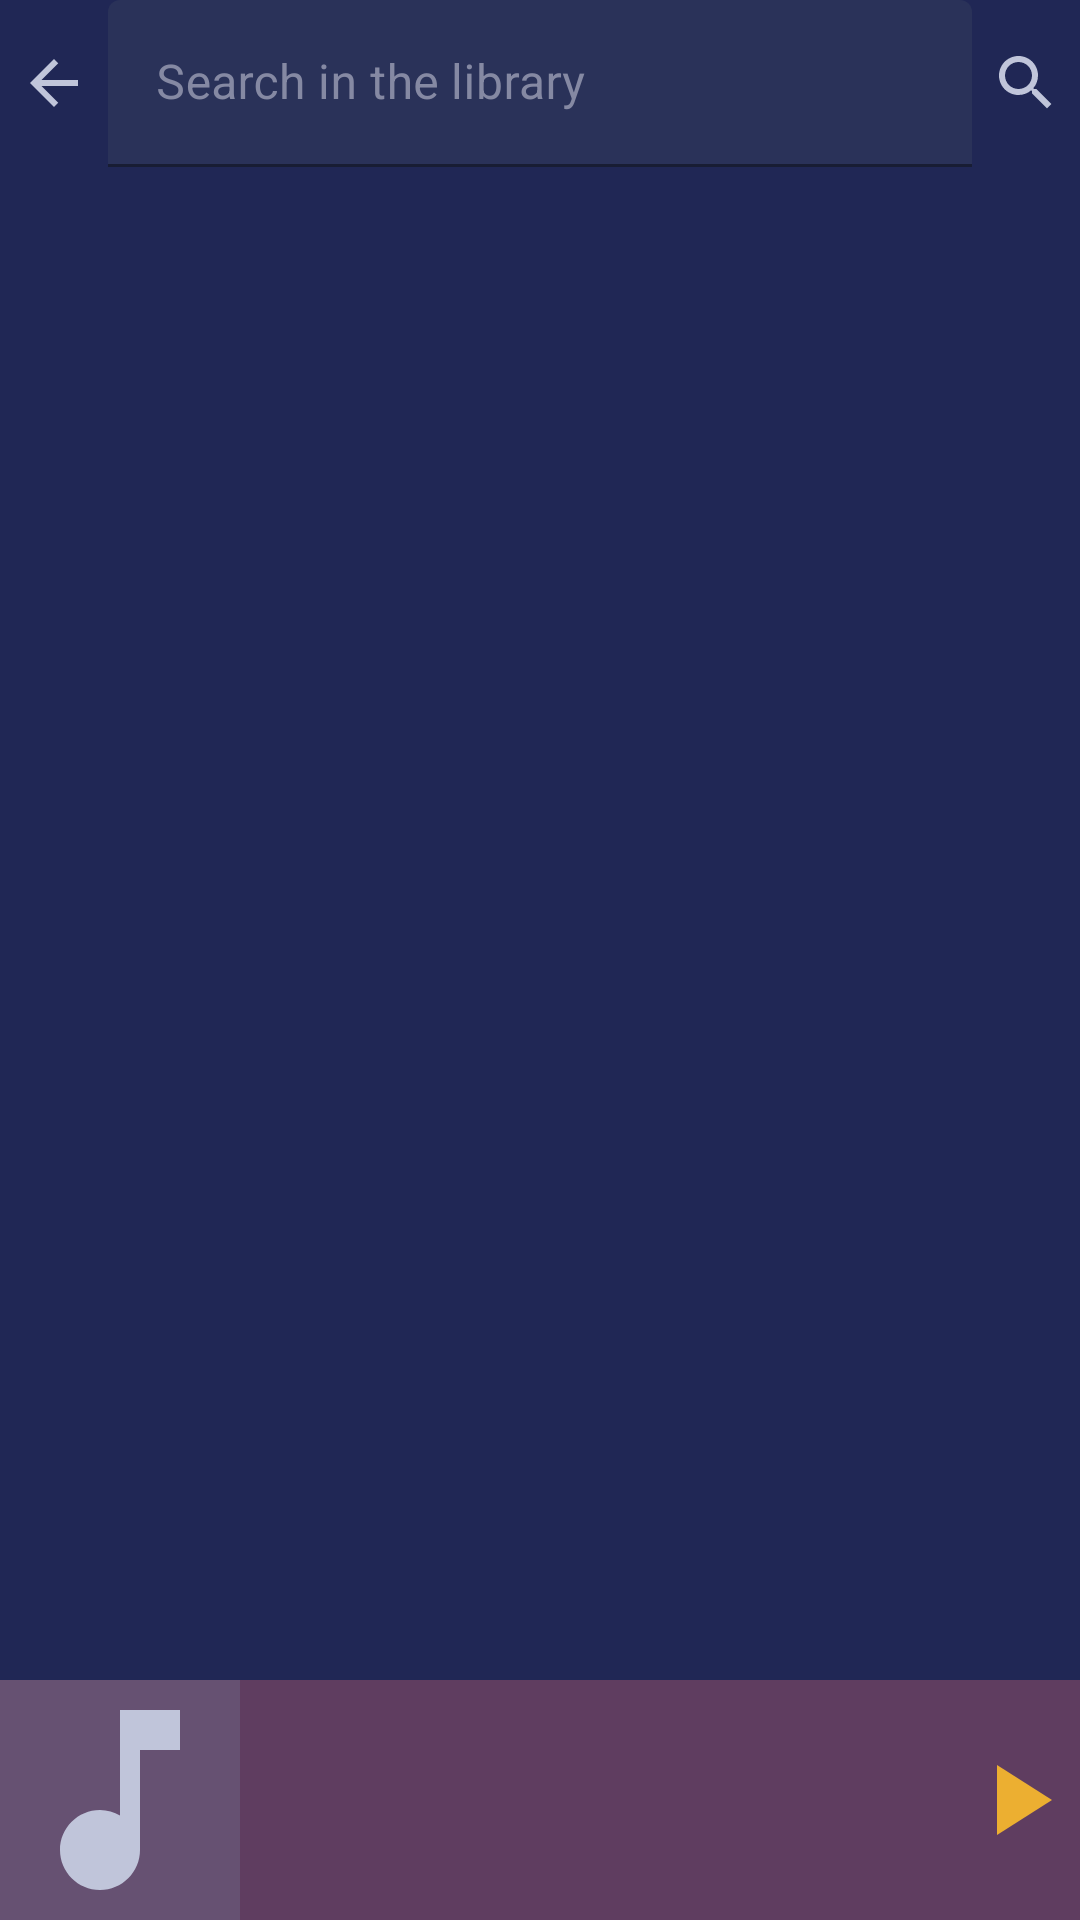

Icons on this 1080 × 1920 Android screen, each with the point to tap as [x,y]:
arrow back: [54,83]
music note: [120,1800]
play arrow: [1024,1800]
